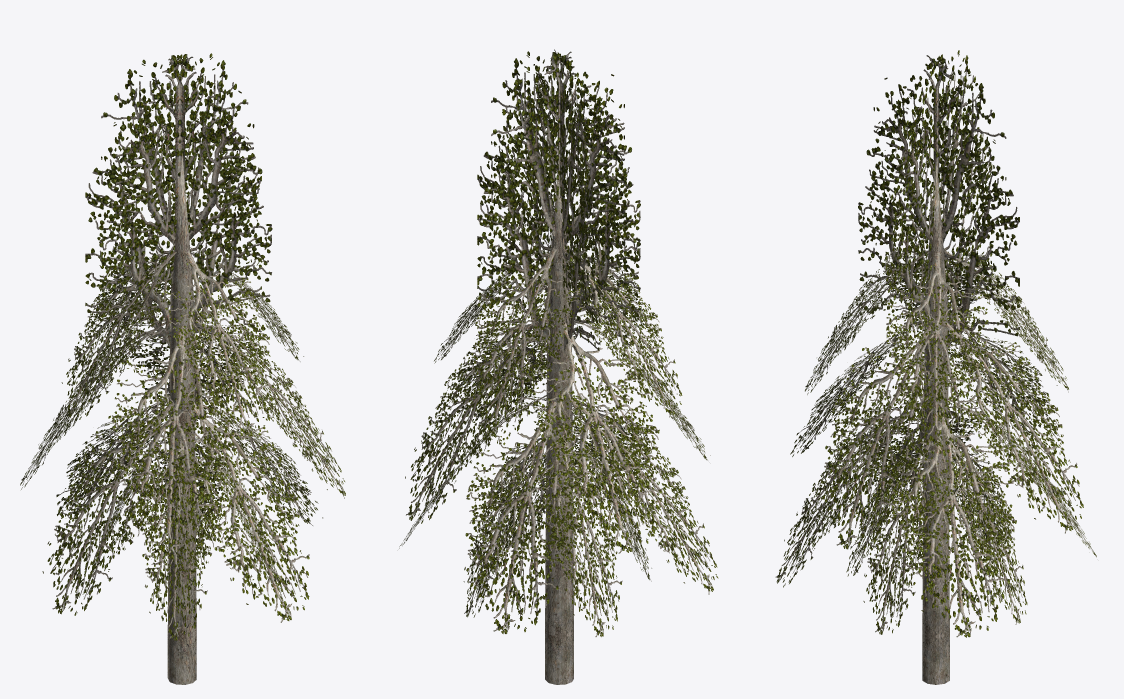
File: Sharp_Poplar01.gltf
3 renders of one model, left to right at view 1: azimuth 30°, elevation 25°; view 2: azimuth 150°, elevation 25°; view 3: azimuth 270°, elevation 25°, orthographic.
Parts seen in each view (by area): view 1: Top, Bfol, Cfol, Dfol, Trunck, Afol; view 2: Top, Cfol, Bfol, Dfol, Afol, Trunck; view 3: Top, Cfol, Bfol, Dfol, Afol, Trunck.
Boxes of the visible parts, x1=… form: Top: x1=85, y1=53, x2=272, y2=347; Bfol: x1=42, y1=397, x2=322, y2=622; Cfol: x1=20, y1=319, x2=345, y2=559; Dfol: x1=61, y1=245, x2=303, y2=437; Trunck: x1=167, y1=153, x2=196, y2=684; Afol: x1=82, y1=433, x2=283, y2=640; Top: x1=477, y1=49, x2=640, y2=370; Cfol: x1=405, y1=313, x2=710, y2=553; Bfol: x1=399, y1=391, x2=718, y2=633; Dfol: x1=434, y1=243, x2=682, y2=436; Afol: x1=463, y1=432, x2=651, y2=636; Trunck: x1=545, y1=161, x2=573, y2=684; Top: x1=858, y1=50, x2=1019, y2=357; Cfol: x1=790, y1=319, x2=1083, y2=549; Bfol: x1=775, y1=398, x2=1096, y2=637; Dfol: x1=805, y1=250, x2=1068, y2=446; Afol: x1=846, y1=435, x2=1027, y2=634; Trunck: x1=922, y1=162, x2=949, y2=684.
Size of the model in its own units: 11.89 by 23.67 by 11.89.
Materials: 2 (2 with a texture image).
